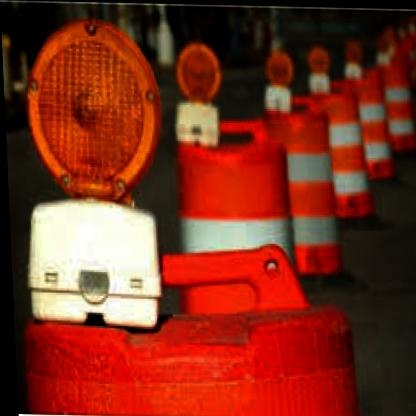obstacle: (158, 114, 297, 248), (288, 112, 339, 283)
